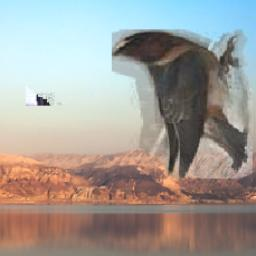Crow: (27, 0, 68, 106)
Swallow: (112, 31, 253, 180)
